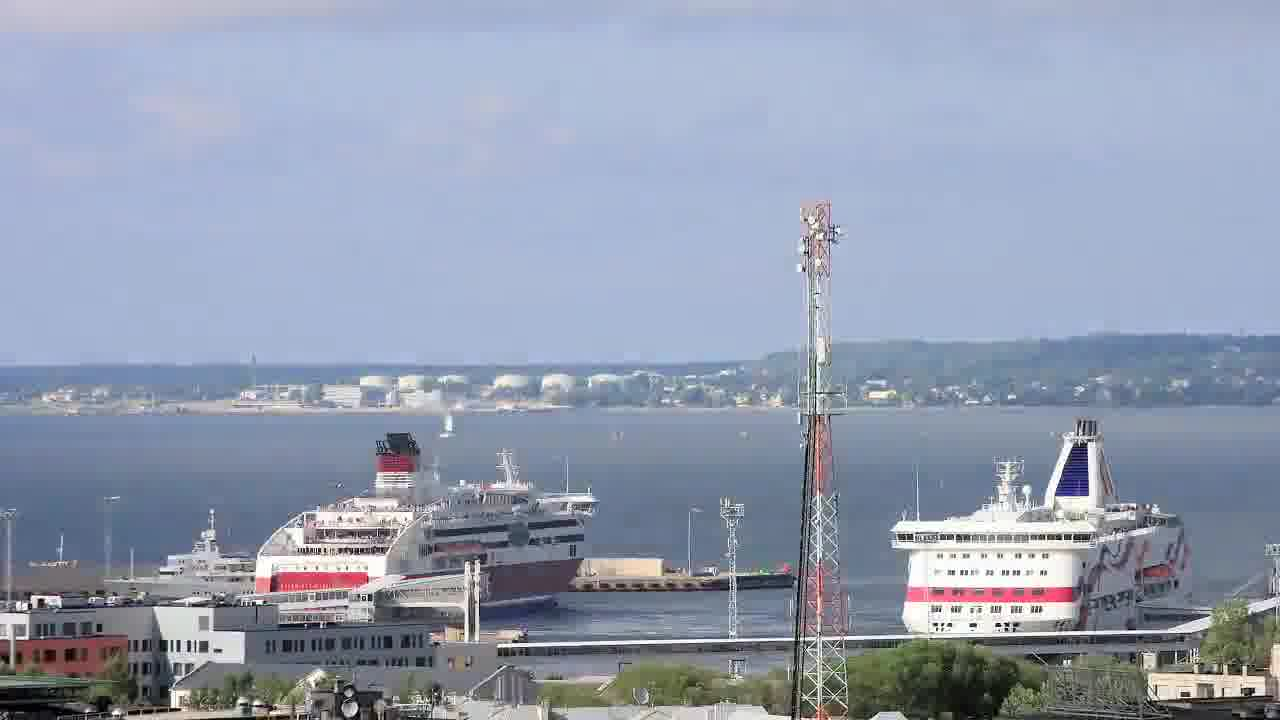type-2: (424, 388, 475, 454)
type-3: (868, 415, 1225, 638), (252, 440, 613, 625), (89, 522, 256, 613)
